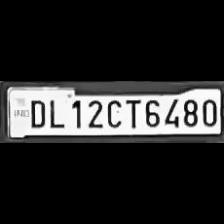0: (199, 96, 217, 127)
1: (66, 97, 83, 129)
2: (84, 97, 104, 129)
4: (160, 96, 180, 127)
6: (140, 97, 160, 127)
8: (180, 96, 198, 127)
C: (104, 96, 122, 128)
D: (25, 97, 47, 129)
L: (46, 96, 66, 128)
T: (122, 96, 140, 128)
